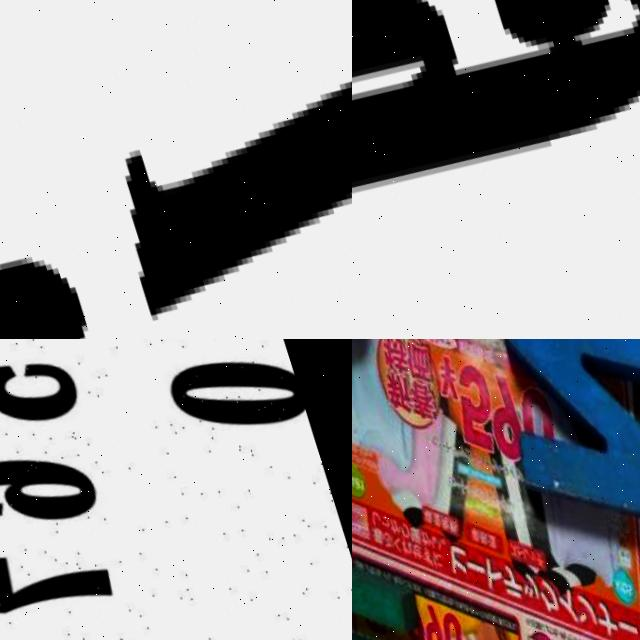0: (129, 339, 315, 472)
5: (0, 339, 112, 474)
6: (0, 397, 118, 566)
7: (0, 488, 151, 640)
8: (0, 586, 159, 640)
9: (352, 0, 640, 276)
I: (0, 0, 352, 339)
M: (352, 481, 472, 640)
N: (467, 339, 640, 558)
